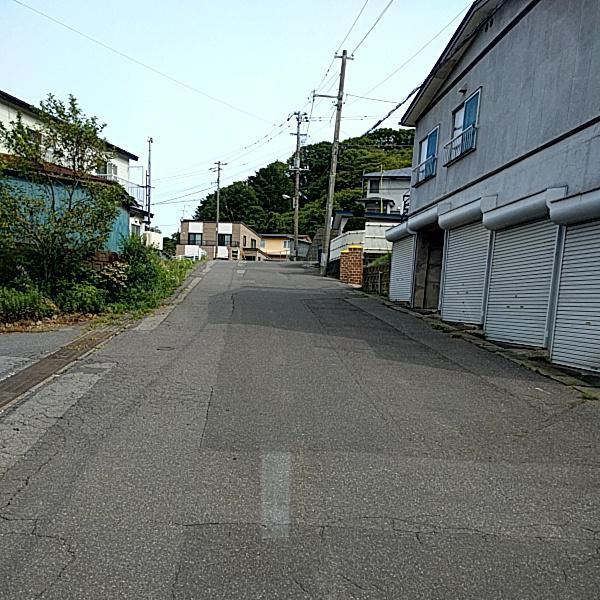D00: (278, 570, 318, 599), (331, 566, 373, 589)
D20: (0, 373, 193, 596), (335, 510, 599, 566)
